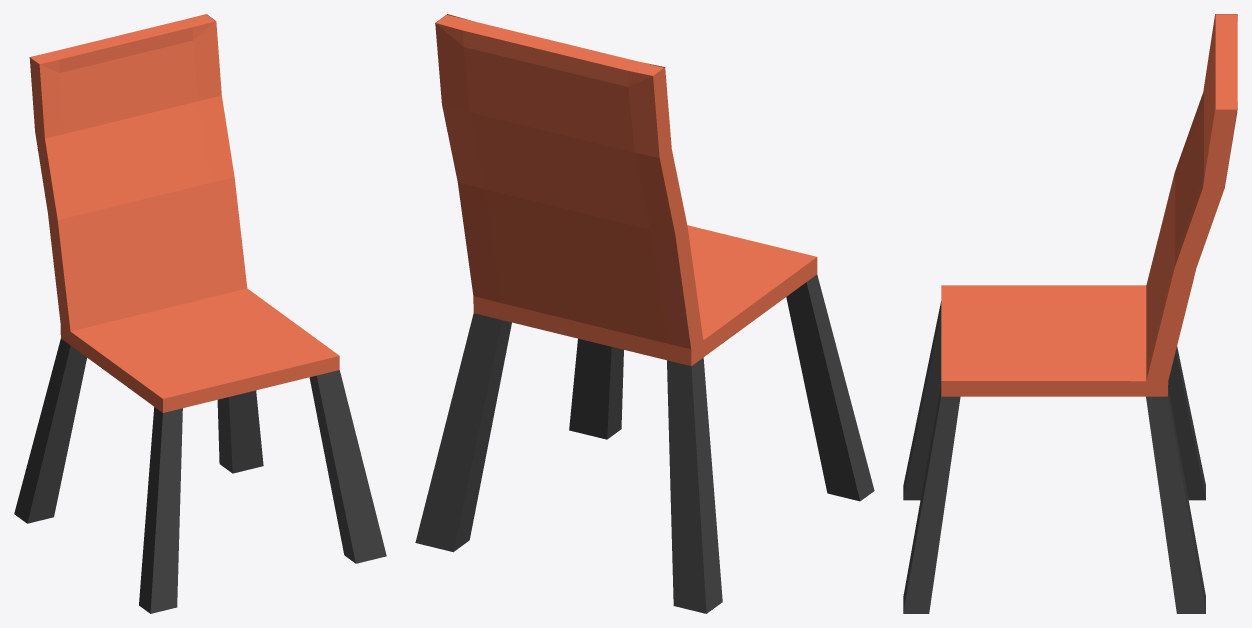
Rendered from ChairFoodCourt.fbx.
3 renders of one model, left to right at view 1: azimuth 30°, elevation 25°; view 2: azimuth 150°, elevation 25°; view 3: azimuth 270°, elevation 25°, orthographic. The views are drawn at different scales.
Visible parts, largest first — view 1: Cube.001; view 2: Cube.001; view 3: Cube.001.
Part boxes in pixels (box(x1,y1,x2,y2)): Cube.001: box(14, 14, 386, 613); Cube.001: box(415, 14, 874, 613); Cube.001: box(903, 14, 1237, 613).
Bounding box in the file's own units: 267 × 475 × 295.
